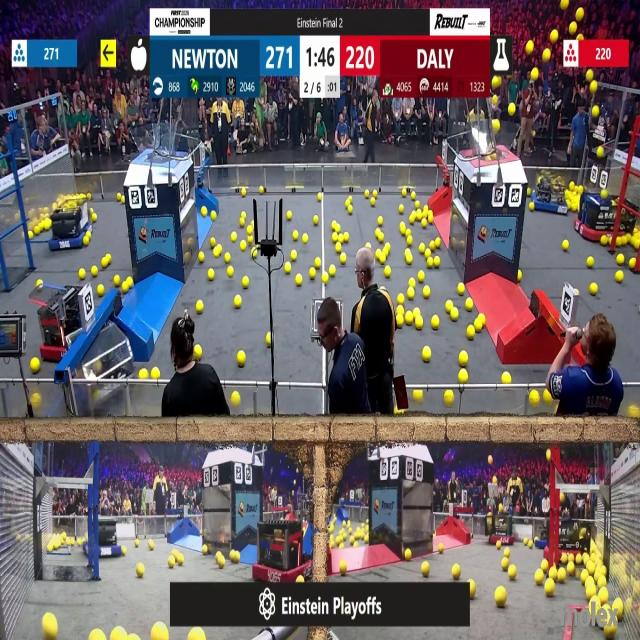ball_airborne: (526, 40, 534, 54), (541, 51, 550, 63), (590, 80, 598, 93), (592, 105, 600, 118), (575, 8, 583, 21), (492, 76, 501, 87), (531, 69, 539, 81), (551, 30, 559, 42), (569, 24, 577, 36), (597, 146, 604, 158), (493, 118, 500, 130), (507, 104, 514, 116), (561, 0, 569, 10), (588, 70, 594, 82), (544, 451, 550, 462), (601, 189, 608, 197), (560, 493, 565, 504), (492, 96, 498, 105), (498, 503, 504, 512), (492, 478, 498, 486), (489, 456, 493, 465), (481, 111, 485, 120)
ball_ground: (43, 616, 56, 640), (152, 624, 166, 640), (495, 588, 506, 608), (604, 625, 616, 640), (544, 582, 554, 598), (529, 390, 539, 406), (190, 629, 203, 640), (534, 570, 544, 584), (598, 590, 608, 604), (31, 357, 40, 372), (422, 347, 431, 362), (112, 629, 124, 640), (459, 351, 467, 367), (459, 368, 468, 382), (193, 345, 201, 360), (446, 391, 454, 406), (91, 630, 103, 640), (468, 582, 475, 599), (232, 551, 241, 564), (137, 563, 145, 577), (238, 352, 246, 366), (452, 564, 460, 578), (340, 560, 348, 574), (233, 392, 241, 406), (510, 566, 518, 580), (587, 586, 595, 600), (629, 406, 638, 418), (566, 563, 575, 575), (431, 316, 439, 329), (415, 317, 423, 330), (629, 257, 637, 270), (558, 569, 566, 582), (474, 319, 482, 332), (501, 373, 510, 384), (422, 562, 429, 576), (150, 366, 158, 378), (396, 316, 404, 328), (542, 390, 550, 402), (406, 313, 414, 325), (632, 238, 640, 250), (569, 200, 577, 212), (467, 325, 474, 338), (217, 555, 224, 568), (590, 283, 598, 294), (140, 367, 148, 378), (426, 257, 434, 268), (414, 390, 422, 401), (103, 254, 111, 265), (235, 295, 242, 307), (315, 256, 322, 268), (195, 302, 202, 314), (169, 556, 176, 568), (121, 281, 128, 293), (618, 254, 626, 264), (458, 283, 465, 294), (322, 274, 329, 285), (92, 267, 99, 278), (378, 232, 385, 243), (284, 264, 291, 275), (403, 551, 410, 562), (43, 219, 50, 230), (563, 240, 569, 252), (452, 309, 458, 321), (99, 284, 105, 296), (423, 286, 429, 298), (466, 300, 472, 312), (267, 334, 273, 346), (329, 266, 335, 278), (399, 222, 405, 234), (447, 301, 453, 313), (501, 558, 507, 570), (546, 568, 554, 577), (78, 270, 85, 280), (223, 252, 230, 262), (214, 246, 221, 256), (127, 278, 134, 288), (540, 560, 547, 570), (428, 241, 435, 251), (579, 572, 586, 582), (588, 256, 594, 267), (243, 277, 249, 288), (208, 270, 214, 281), (341, 253, 347, 264), (419, 272, 425, 283), (618, 272, 624, 283), (295, 275, 301, 286), (290, 250, 296, 261), (433, 256, 439, 267), (409, 288, 415, 299), (407, 253, 413, 264), (114, 276, 120, 287), (241, 241, 247, 252), (291, 232, 298, 241), (425, 248, 432, 257), (403, 248, 410, 257), (203, 543, 209, 553), (385, 268, 391, 278), (310, 270, 316, 280), (200, 252, 206, 262), (232, 233, 238, 243), (397, 294, 403, 304), (439, 542, 445, 552), (601, 237, 607, 247), (202, 207, 208, 217), (517, 272, 523, 282), (331, 234, 337, 244), (420, 244, 426, 254), (210, 238, 216, 248), (336, 243, 342, 253), (130, 634, 140, 640), (177, 555, 183, 565), (422, 218, 428, 228), (296, 575, 303, 583), (316, 192, 323, 200), (414, 309, 421, 317), (227, 267, 232, 278), (83, 237, 89, 246), (120, 545, 126, 554), (378, 216, 384, 225), (303, 235, 309, 244), (240, 218, 246, 227), (148, 540, 154, 549), (252, 249, 258, 258), (427, 214, 433, 223), (363, 535, 369, 544), (618, 238, 624, 247), (286, 211, 292, 220), (336, 222, 342, 231), (350, 536, 356, 545), (381, 254, 386, 264), (408, 237, 413, 247), (435, 239, 440, 249), (344, 234, 349, 244), (331, 220, 336, 230), (247, 224, 252, 234), (339, 234, 344, 244), (417, 210, 422, 220), (396, 307, 403, 314), (410, 279, 416, 287), (503, 550, 509, 558), (36, 280, 42, 288), (115, 192, 121, 200), (28, 232, 34, 240), (398, 205, 403, 214), (411, 215, 416, 224), (211, 212, 216, 221), (184, 253, 189, 262), (365, 242, 371, 249), (314, 216, 319, 224), (93, 214, 98, 222), (412, 190, 417, 198), (524, 537, 529, 545), (384, 245, 388, 255), (33, 226, 38, 234), (530, 203, 534, 212), (88, 192, 94, 198), (87, 233, 93, 239), (248, 237, 253, 244), (259, 186, 264, 193), (496, 541, 501, 548), (364, 190, 369, 197), (527, 188, 532, 195), (348, 195, 353, 202), (242, 188, 246, 196), (370, 199, 374, 207), (377, 250, 381, 258), (401, 189, 405, 197), (120, 197, 124, 205), (346, 200, 350, 208), (349, 207, 353, 214), (136, 539, 140, 546), (416, 202, 420, 209), (529, 540, 533, 547), (341, 542, 345, 548), (242, 212, 246, 218)
goal: (465, 124, 522, 160), (132, 130, 188, 161)
robot_blue: (72, 323, 138, 411), (50, 194, 90, 250), (532, 167, 568, 213), (86, 521, 120, 559), (532, 520, 549, 548)
robot_red: (33, 283, 100, 361), (257, 512, 306, 582), (577, 188, 618, 241), (556, 519, 590, 556), (484, 513, 515, 546)
